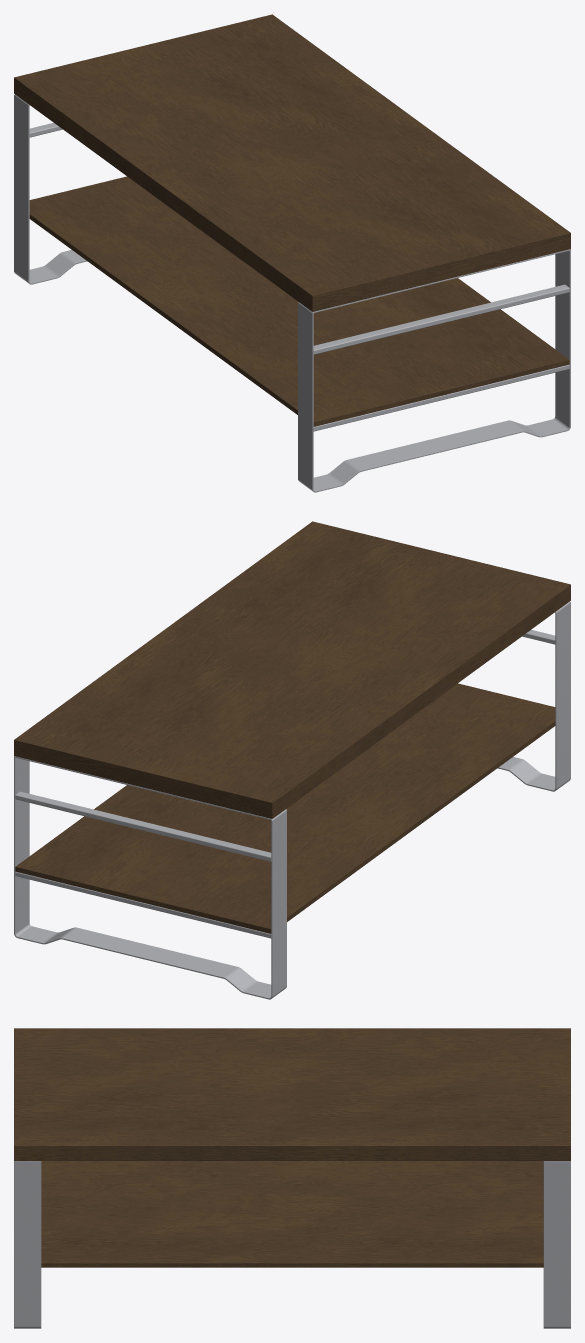
Rendered from furniture_table_coffee_low_a01.glb.
3 views of the same model, one above another, from view 1: azimuth 30°, elevation 25°; view 2: azimuth 150°, elevation 25°; view 3: azimuth 270°, elevation 25° (orthographic). The views are drawn at different scales.
Visible parts, largest first — view 1: table_01_mesh_00; view 2: table_01_mesh_00; view 3: table_01_mesh_00.
Boxes of the visible parts, x1,y1,x2,y2 form: table_01_mesh_00: (14, 14, 570, 492); table_01_mesh_00: (14, 521, 570, 999); table_01_mesh_00: (14, 1028, 570, 1328).
Size of the model in its own units: 0.6 by 0.4427 by 1.2.
3 materials, 3 textured.
